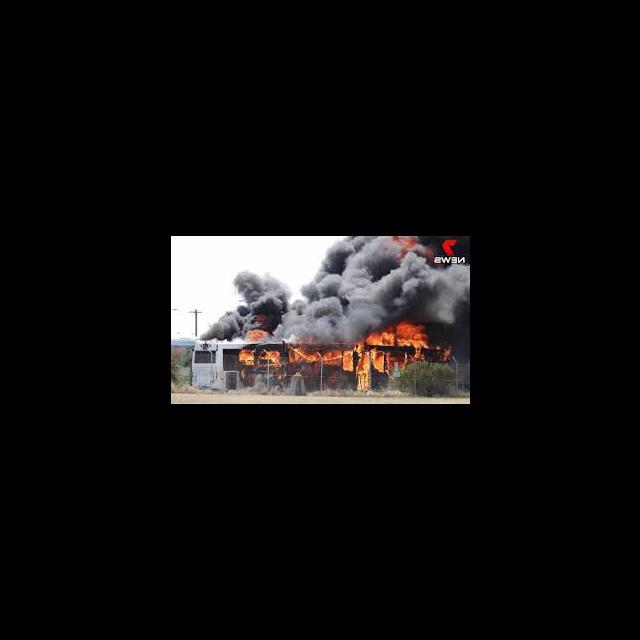Fire: (366, 322, 450, 370), (384, 236, 436, 266), (287, 347, 339, 366), (340, 342, 364, 373), (257, 348, 279, 368), (242, 328, 266, 342), (237, 348, 254, 367), (250, 314, 265, 324)
Smoke: (308, 266, 470, 321), (231, 271, 308, 312), (268, 318, 364, 342), (320, 236, 384, 267), (198, 312, 245, 340)
